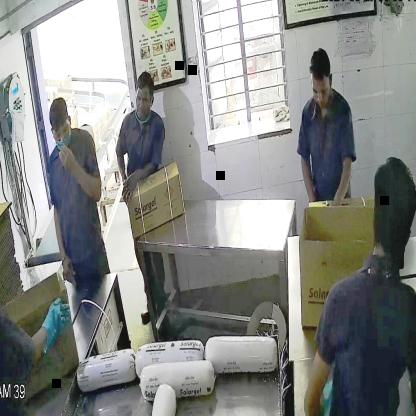no_goggles: (48, 119, 74, 142), (310, 78, 333, 100)
